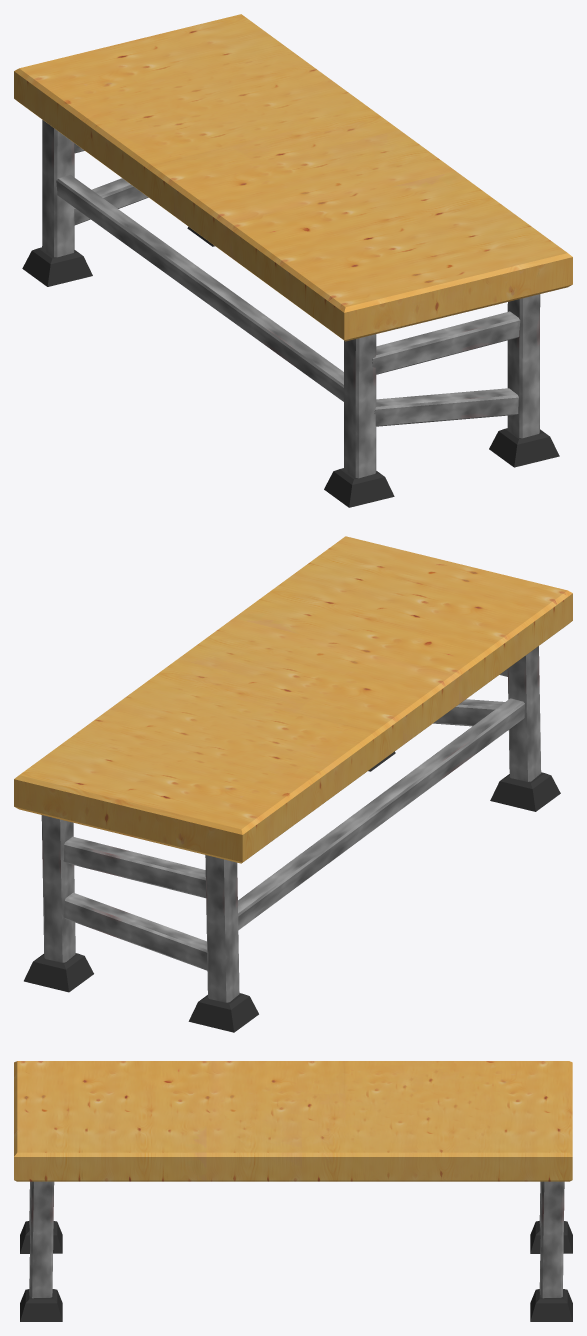
The model's file is Work_Table1.fbx.
3 views of the same model, one above another, from view 1: azimuth 30°, elevation 25°; view 2: azimuth 150°, elevation 25°; view 3: azimuth 270°, elevation 25° (orthographic). The views are drawn at different scales.
Visible parts, largest first — view 1: Work_Table1; view 2: Work_Table1; view 3: Work_Table1.
Part boxes in pixels (x1,y1,x2,y2): Work_Table1: [14, 14, 572, 507]; Work_Table1: [14, 536, 572, 1032]; Work_Table1: [14, 1061, 572, 1321].
Size of the model in its own units: 76.36 by 64.79 by 191.
